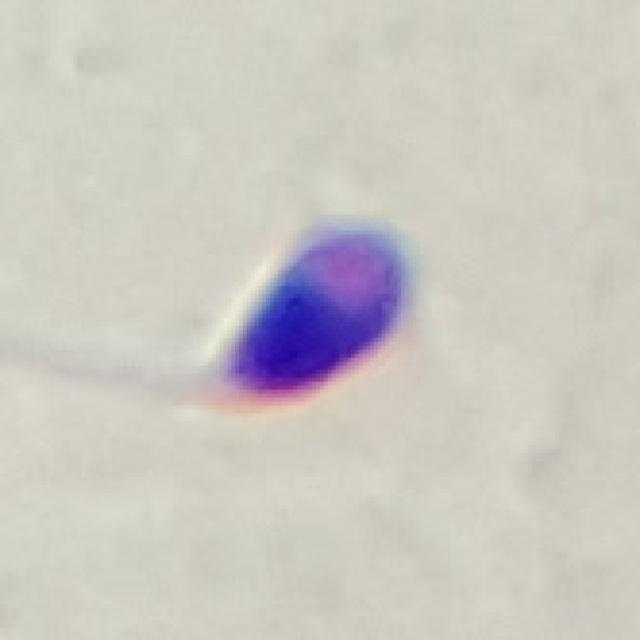normal sperm: (50, 213, 414, 427)
